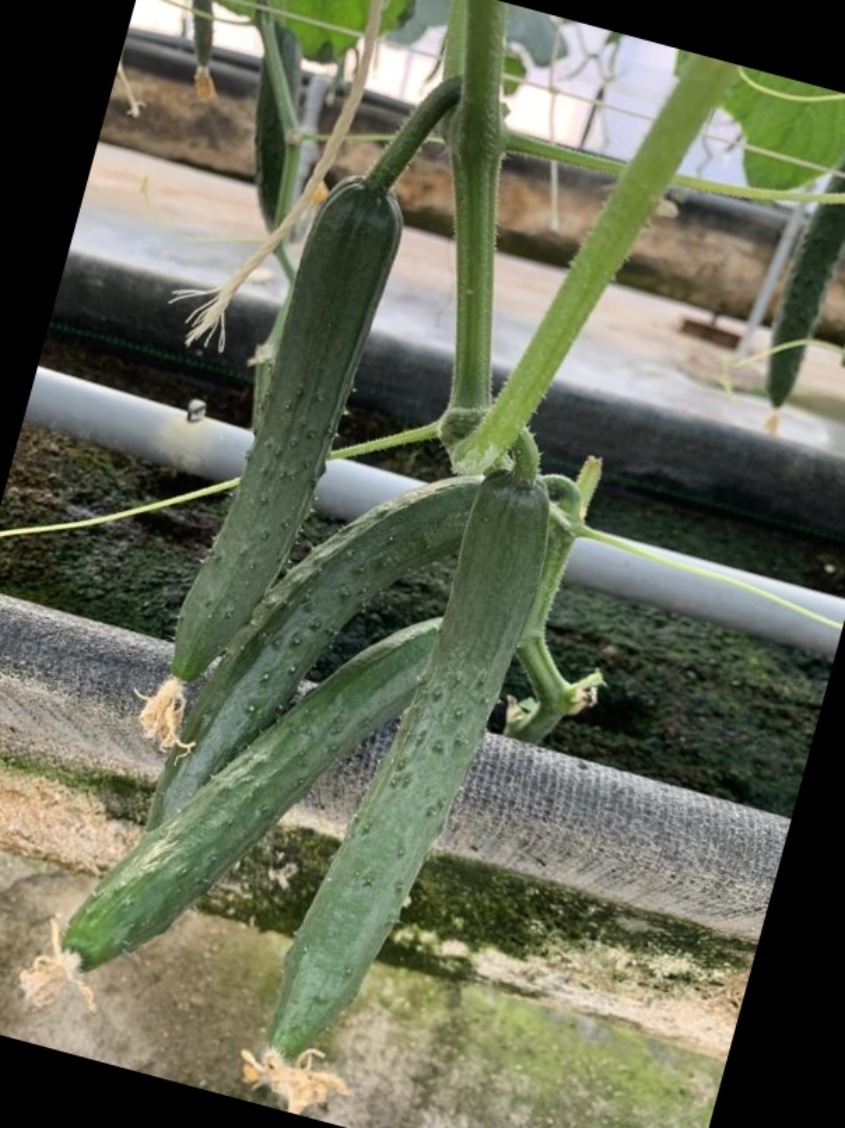mature: (234, 478, 556, 1049), (160, 172, 406, 687)
